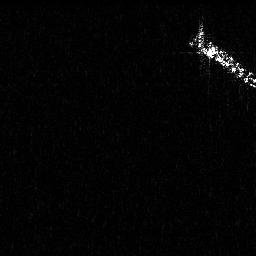ship: (184, 22, 256, 90)
